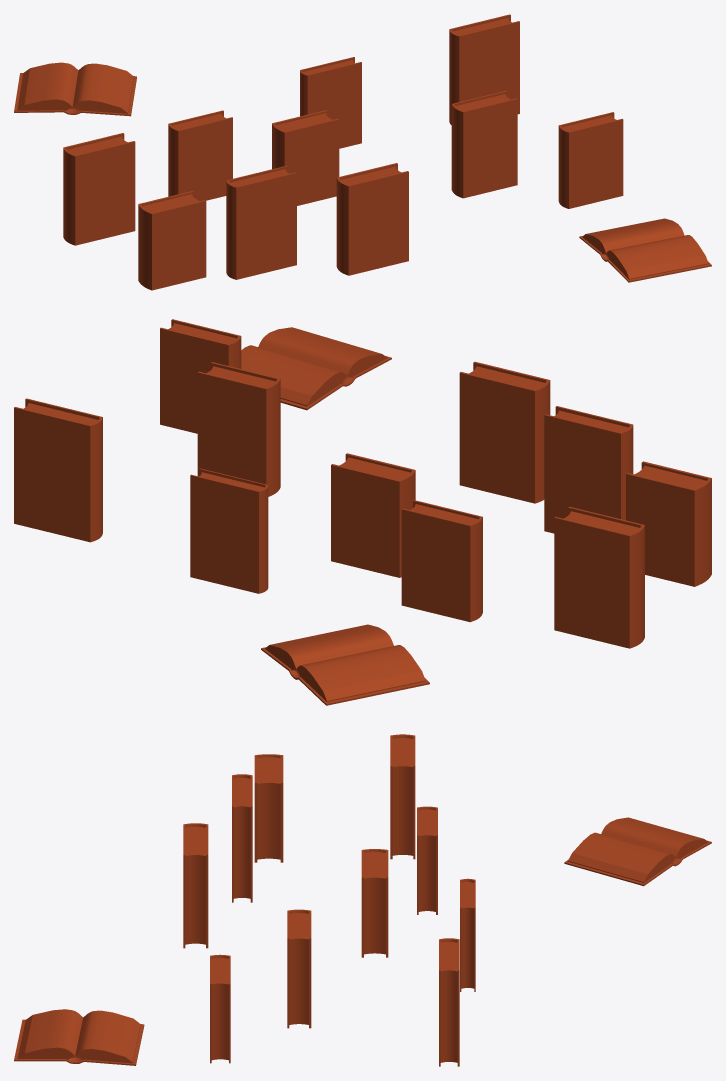
File: Books_low.fbx
The picture shows the model from 3 angles, top to bottom: view 1: azimuth 30°, elevation 25°; view 2: azimuth 150°, elevation 25°; view 3: azimuth 270°, elevation 25°; orthographic projection. The views are drawn at different scales.
Parts seen in each view (by area): view 1: Closed_Book_04_low, Closed_Book_08_low, Closed_Book_06_low, Closed_Book_10_low, Closed_Book_09_low, Open_Book_low, Closed_Book_07_low, Closed_Book_02_low, Open_Book_02_low, Closed_Book_03_low, Closed_Book_05_low, Closed_Book_01_low; view 2: Closed_Book_04_low, Closed_Book_02_low, Closed_Book_08_low, Closed_Book_10_low, Closed_Book_06_low, Closed_Book_03_low, Closed_Book_01_low, Closed_Book_09_low, Closed_Book_05_low, Open_Book_low, Open_Book_02_low, Closed_Book_07_low; view 3: Open_Book_02_low, Open_Book_low, Closed_Book_09_low, Closed_Book_08_low, Closed_Book_04_low, Closed_Book_05_low, Closed_Book_10_low, Closed_Book_02_low, Closed_Book_06_low, Closed_Book_07_low, Closed_Book_03_low, Closed_Book_01_low.
Boxes of the visible parts, box(x1,y1,x2,y2) form: Closed_Book_04_low: box(63, 133, 135, 245); Closed_Book_08_low: box(336, 163, 408, 275); Closed_Book_06_low: box(226, 165, 296, 279); Closed_Book_10_low: box(451, 90, 517, 198); Closed_Book_09_low: box(138, 191, 206, 290); Open_Book_low: box(14, 62, 136, 116); Closed_Book_07_low: box(558, 112, 623, 208); Closed_Book_02_low: box(449, 14, 519, 124); Open_Book_02_low: box(579, 218, 711, 282); Closed_Book_03_low: box(168, 110, 232, 200); Closed_Book_05_low: box(272, 110, 339, 205); Closed_Book_01_low: box(300, 57, 361, 148); Closed_Book_04_low: box(554, 506, 644, 648); Closed_Book_02_low: box(14, 398, 102, 542); Closed_Book_08_low: box(459, 361, 550, 503); Closed_Book_10_low: box(197, 362, 280, 496); Closed_Book_06_low: box(544, 406, 633, 533); Closed_Book_03_low: box(401, 500, 482, 622); Closed_Book_01_low: box(190, 468, 268, 593); Closed_Book_09_low: box(626, 461, 711, 586); Closed_Book_05_low: box(331, 453, 415, 577); Open_Book_low: box(261, 624, 429, 705); Open_Book_02_low: box(241, 327, 391, 410); Closed_Book_07_low: box(160, 319, 241, 433); Open_Book_02_low: box(14, 1009, 144, 1065); Open_Book_low: box(564, 817, 711, 886); Closed_Book_09_low: box(254, 754, 283, 862); Closed_Book_08_low: box(183, 823, 208, 948); Closed_Book_04_low: box(390, 734, 415, 859); Closed_Book_05_low: box(361, 849, 388, 957); Closed_Book_10_low: box(287, 909, 311, 1028); Closed_Book_02_low: box(439, 938, 459, 1066); Closed_Book_06_low: box(232, 774, 252, 902); Closed_Book_07_low: box(210, 954, 230, 1063); Closed_Book_03_low: box(417, 806, 437, 914); Closed_Book_01_low: box(460, 878, 475, 991).
Bounding box in the file's own units: 1.57 × 0.2994 × 1.93.
